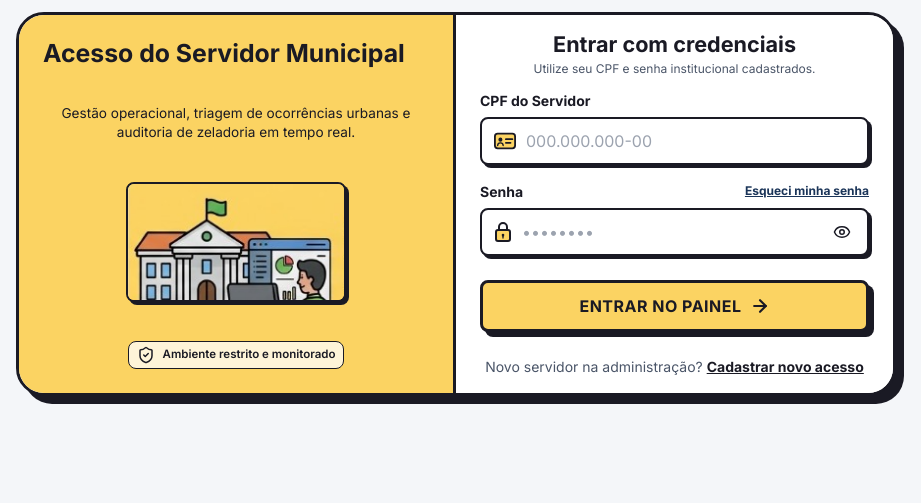
Test case: Página LoginPrefeitura (/login/prefeitura) › deve exibir erro da API caso as credenciais sejam recusadas
The width and height of the screenshot is (921, 503).
Type "11122233344" into the field labelled "CPF do Servidor" at (690, 141), box [526,119,855,163]
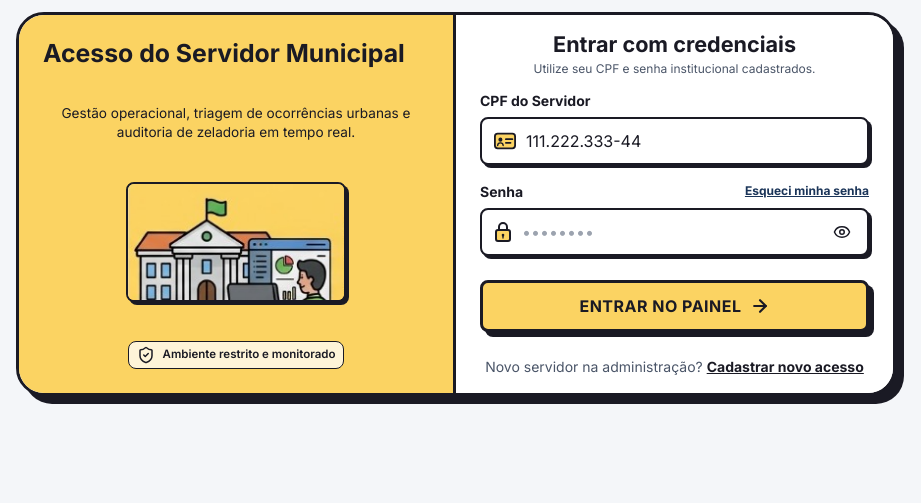
Type "senhaErrada" into the password field labelled "Senha" at (676, 232), box [522,210,829,254]
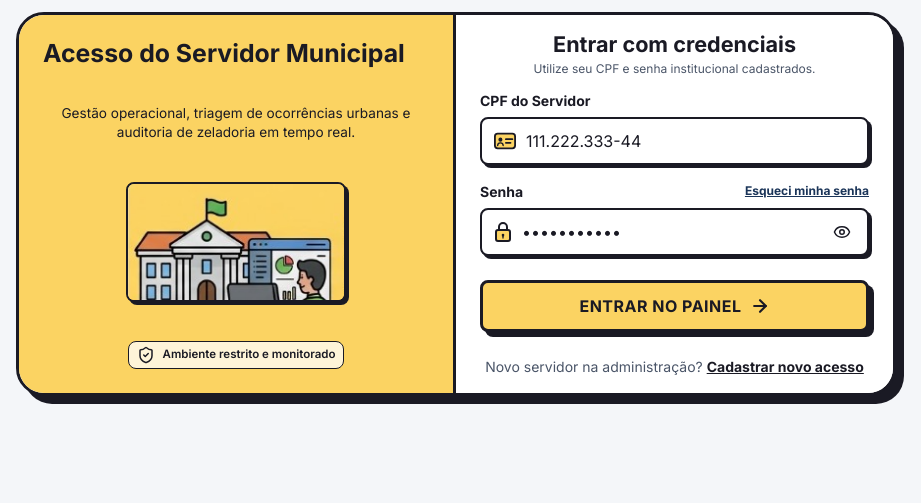
Click the button with aria-label "Acessar o painel da prefeitura" at (674, 306), box [480,280,869,332]
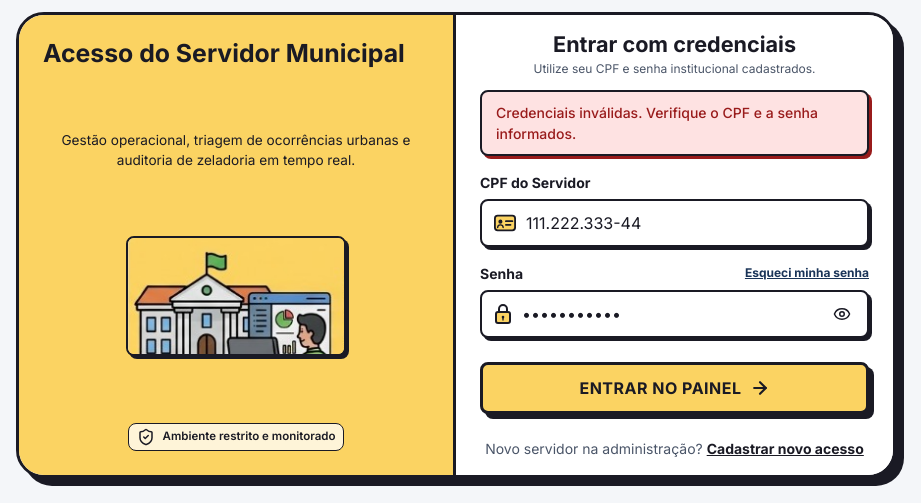
Expected: the text "Credenciais inválidas. Verifique o CPF e a senha informados." is shown, [480,90,869,156]
